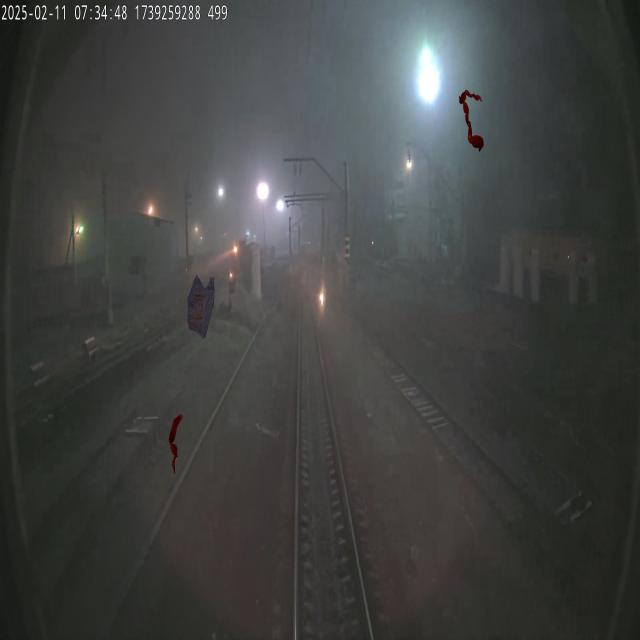floating object: (459, 89, 484, 152), (168, 409, 185, 474)
plastic bag: (187, 274, 215, 338)
